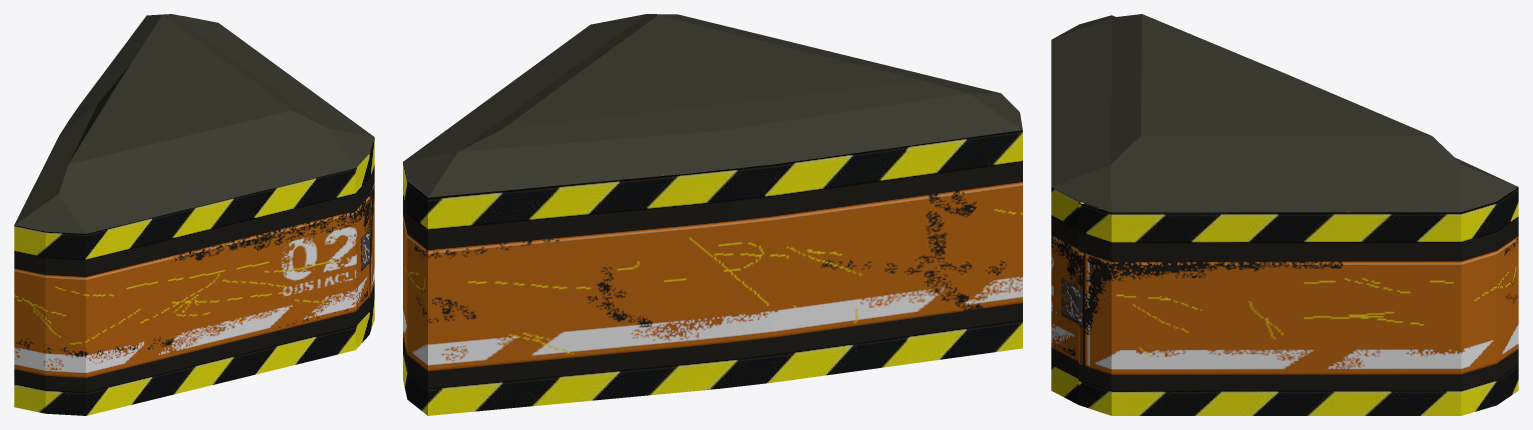
File: triangulo_bajo.fbx
The picture shows the model from 3 angles, left to right: view 1: azimuth 30°, elevation 25°; view 2: azimuth 150°, elevation 25°; view 3: azimuth 270°, elevation 25°; orthographic projection. The views are drawn at different scales.
Parts seen in each view (by area): view 1: Cube; view 2: Cube; view 3: Cube.
Part boxes in pixels (x1=…): Cube: x1=14, y1=14, x2=374, y2=415; Cube: x1=403, y1=14, x2=1022, y2=415; Cube: x1=1051, y1=14, x2=1518, y2=415.
Size of the model in its own units: 2.13 by 1.3 by 2.14.
Materials: 1 (1 with a texture image).
